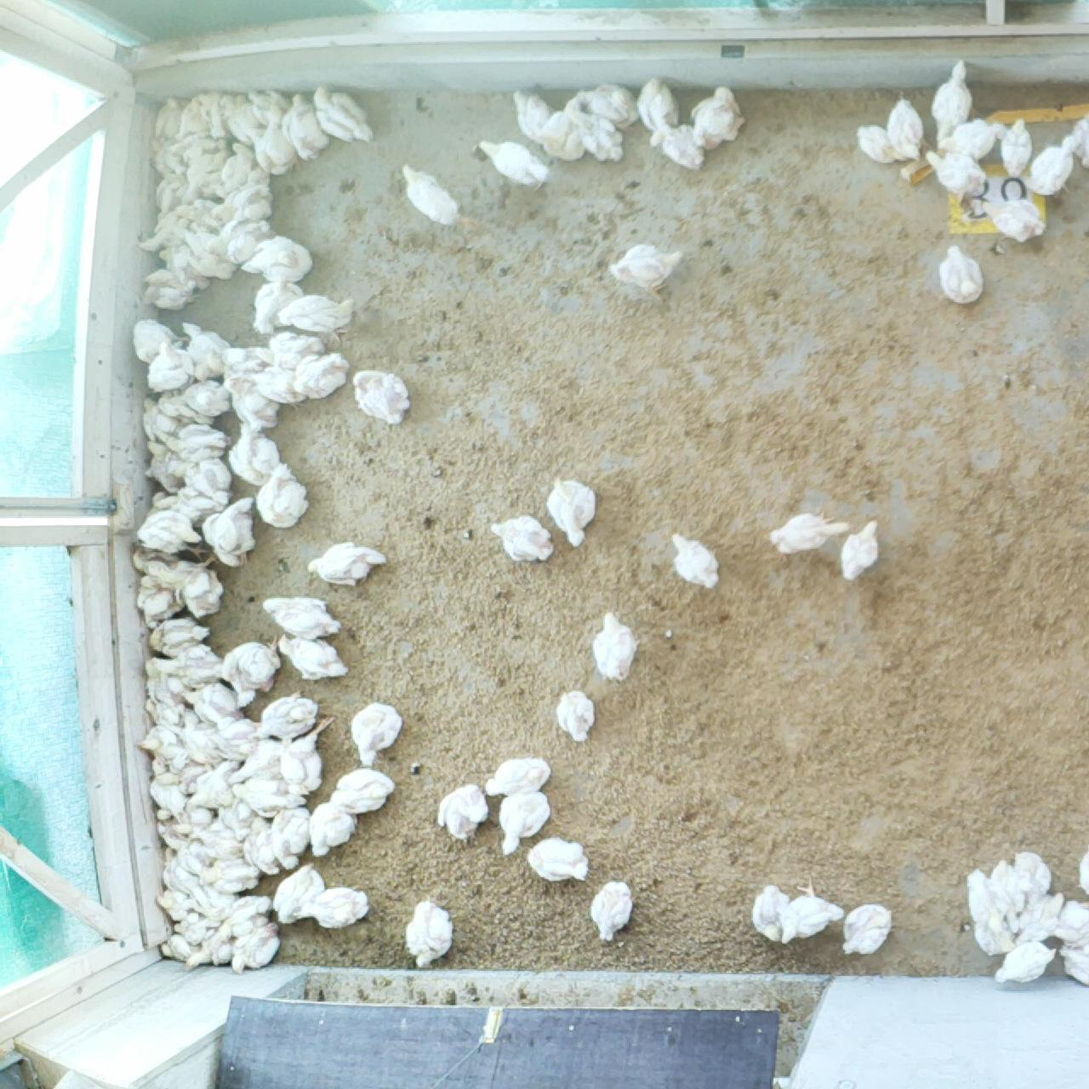chicken: (760, 506, 855, 567), (605, 239, 686, 306), (217, 632, 283, 711), (280, 712, 338, 798), (778, 874, 845, 946), (270, 291, 359, 342), (402, 889, 457, 970), (544, 470, 600, 549), (687, 82, 747, 155), (399, 160, 463, 228), (1019, 132, 1083, 200), (311, 79, 376, 145), (305, 537, 389, 588), (929, 57, 975, 150), (201, 495, 258, 570), (590, 606, 641, 687), (475, 136, 552, 189), (274, 630, 351, 683), (261, 595, 344, 644), (238, 232, 316, 284), (496, 788, 553, 859), (349, 368, 415, 429), (348, 698, 405, 768), (254, 460, 311, 530), (922, 149, 989, 208), (270, 861, 329, 927), (976, 193, 1048, 247), (281, 88, 332, 164), (489, 513, 558, 569), (128, 545, 213, 590), (221, 371, 283, 432), (227, 422, 284, 488), (203, 217, 279, 266), (325, 766, 399, 816), (253, 686, 321, 740), (299, 884, 373, 932), (251, 328, 325, 376), (524, 832, 591, 885), (434, 782, 492, 843), (566, 105, 627, 163), (537, 96, 589, 164), (936, 113, 1008, 162), (230, 775, 308, 820), (150, 643, 227, 688), (586, 878, 636, 947), (248, 276, 305, 336), (936, 242, 987, 308), (181, 319, 232, 385), (668, 530, 722, 592), (574, 79, 642, 128), (645, 122, 710, 173), (291, 348, 353, 401), (307, 797, 359, 860), (180, 145, 232, 208), (991, 939, 1060, 986), (835, 518, 884, 584), (176, 679, 246, 725), (254, 110, 300, 180), (183, 757, 243, 810), (138, 658, 186, 724), (839, 901, 894, 958), (135, 507, 203, 553), (1014, 888, 1066, 948), (484, 755, 553, 800), (964, 865, 1008, 935), (228, 920, 283, 976), (182, 227, 239, 281), (633, 75, 683, 135), (224, 739, 285, 788), (146, 338, 197, 396), (987, 856, 1028, 928), (884, 95, 926, 165), (510, 86, 557, 148), (185, 452, 237, 508), (216, 892, 272, 944), (174, 706, 222, 766), (240, 814, 284, 879), (157, 242, 213, 292), (750, 880, 793, 945), (162, 421, 230, 462), (271, 803, 311, 872), (141, 266, 198, 314), (130, 317, 188, 364), (177, 567, 226, 622), (146, 615, 211, 656), (996, 114, 1035, 182), (203, 344, 271, 382), (150, 485, 218, 523), (135, 210, 192, 255), (147, 754, 189, 815), (553, 686, 597, 744), (181, 928, 235, 975), (249, 363, 309, 405), (178, 376, 234, 420), (197, 856, 263, 893), (1012, 847, 1054, 905), (136, 577, 184, 626), (130, 721, 184, 764), (853, 122, 908, 164), (209, 715, 259, 761), (209, 187, 275, 221), (157, 390, 216, 428), (143, 439, 185, 492), (971, 914, 1019, 958), (140, 393, 183, 441), (158, 847, 200, 894), (245, 86, 294, 126), (217, 143, 257, 192), (151, 805, 193, 851), (227, 91, 262, 146), (188, 883, 237, 922), (1053, 897, 1089, 946), (155, 886, 200, 925), (198, 92, 234, 140), (175, 94, 210, 142), (1055, 942, 1089, 991), (154, 172, 187, 222), (195, 827, 245, 859), (152, 93, 185, 141), (175, 196, 224, 228), (1068, 104, 1089, 172), (148, 137, 185, 175), (211, 799, 251, 834), (177, 757, 211, 798), (168, 807, 215, 836), (155, 932, 196, 962)
